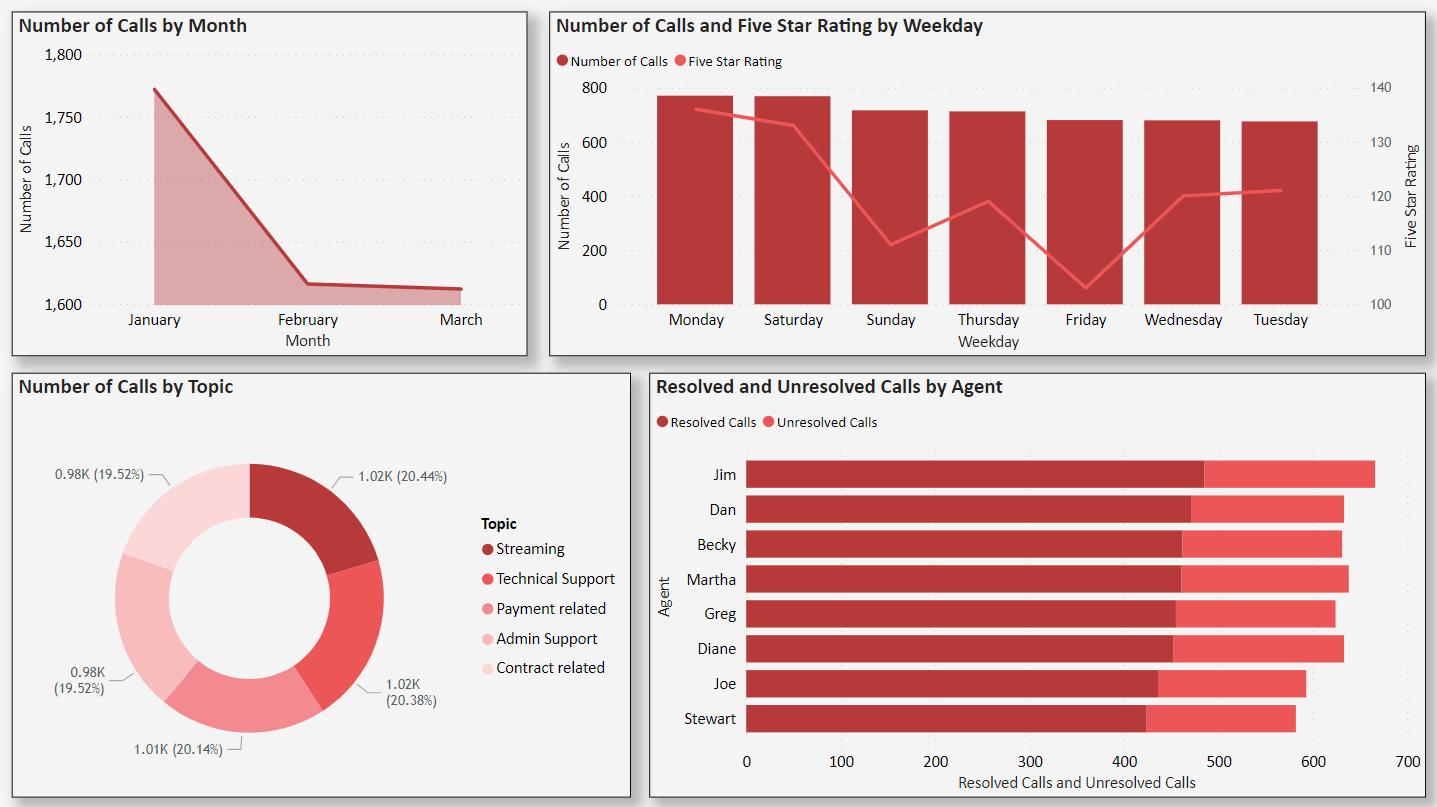

What the dashboard file says about the page in this screenshot:
{"tool":"powerbi","page":{"name":"Page 2","canvas":[1280,720],"ordinal":1},"visuals":[{"type":"stackedAreaChart","fields":{"Category":["Call Center.Date.Variation.Date Hierarchy.Month"],"Y":["Call Center.Call Id"]},"box":[12.3,11,458.3,306],"z":0},{"type":"lineStackedColumnComboChart","fields":{"Category":["Call Center.Weekday"],"Y":["Call Center.Call Id"],"Y2":["Call Center.Five Star Rating Count"]},"box":[489.9,11,779.4,306],"z":1000},{"type":"barChart","title":"Resolved and Unresolved Calls by Agent","fields":{"Category":["Call Center.Agent"],"Y":["Call Center.Resolved Calls Count","Call Center.Unresolved Calls Count"]},"box":[579.1,332.1,690.2,377.4],"z":2000},{"type":"donutChart","fields":{"Category":["Call Center.Topic"],"Y":["Call Center.Call Id"]},"box":[12.3,332.1,550.3,377.4],"z":3000}]}

Visuals, with their boxes in screenshot pixels (x1, y1, x2, y2), scaled from the page's 1280x720 canvas onto the 1437x807 screenshot:
stackedAreaChart - Call Center.Date.Variation.Date Hierarchy.Month x Call Center.Call Id: <bbox>14, 12, 528, 355</bbox>
lineStackedColumnComboChart - Call Center.Weekday x Call Center.Call Id: <bbox>550, 12, 1425, 355</bbox>
"Resolved and Unresolved Calls by Agent" barChart: <bbox>650, 372, 1425, 795</bbox>
donutChart - Call Center.Topic x Call Center.Call Id: <bbox>14, 372, 632, 795</bbox>
